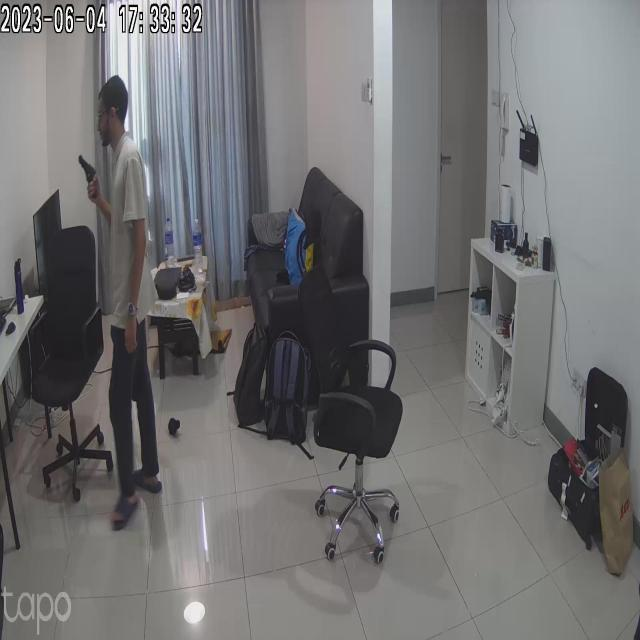Gun: (65, 150, 99, 195)
